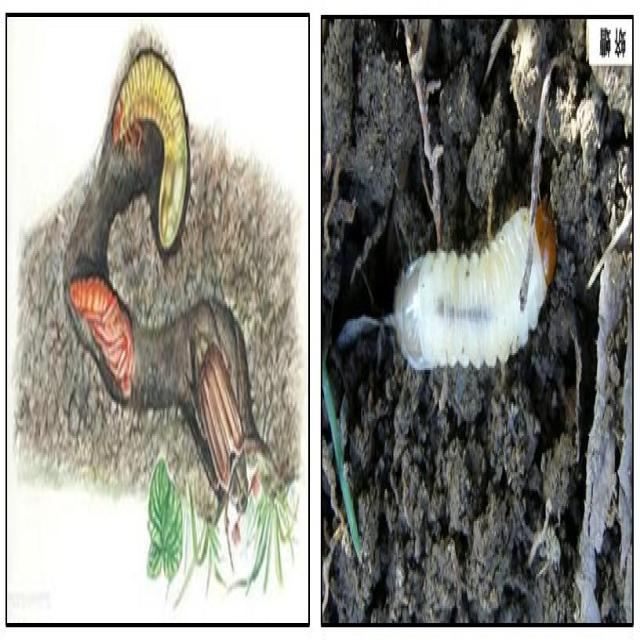grub: (384, 224, 554, 390), (111, 73, 195, 269), (191, 324, 253, 516), (65, 268, 137, 419)
